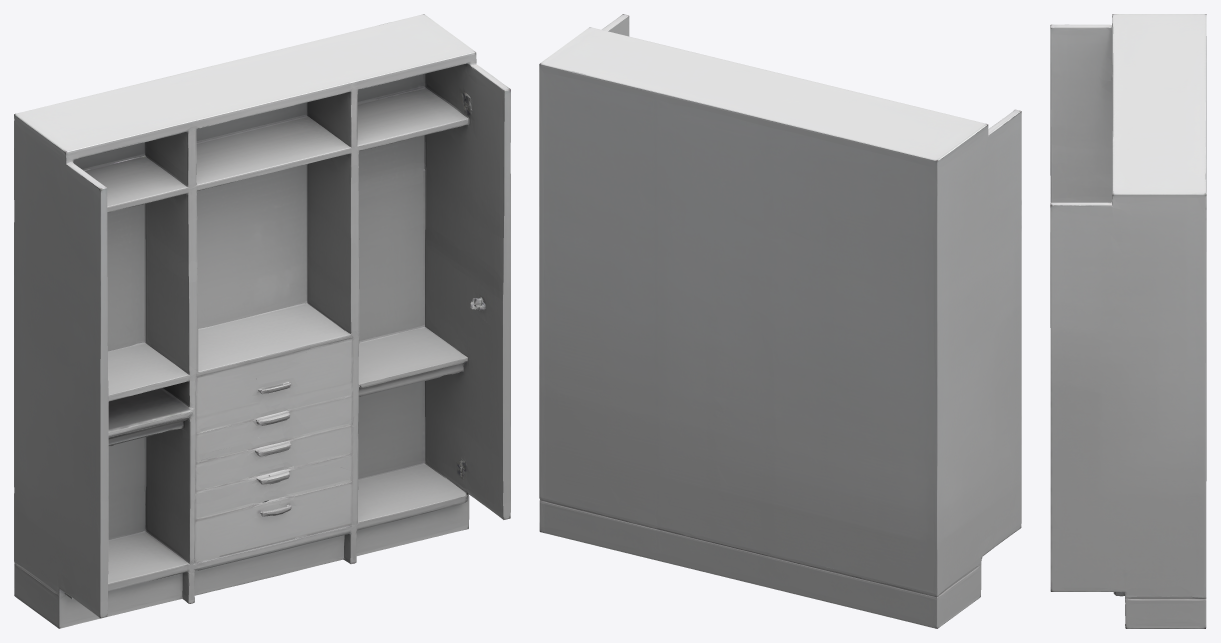
Rendered from wardobe.glb.
3 views of the same model, side by side, from view 1: azimuth 30°, elevation 25°; view 2: azimuth 150°, elevation 25°; view 3: azimuth 270°, elevation 25° (orthographic). The views are drawn at different scales.
Visible parts, largest first — view 1: world; view 2: world; view 3: world.
Part boxes in pixels (x1=…): world: x1=14, y1=14, x2=510, y2=628; world: x1=539, y1=14, x2=1021, y2=628; world: x1=1050, y1=14, x2=1206, y2=628.
Bounding box in the file's own units: 0.892 × 1 × 0.3264.
1 material, 1 textured.
